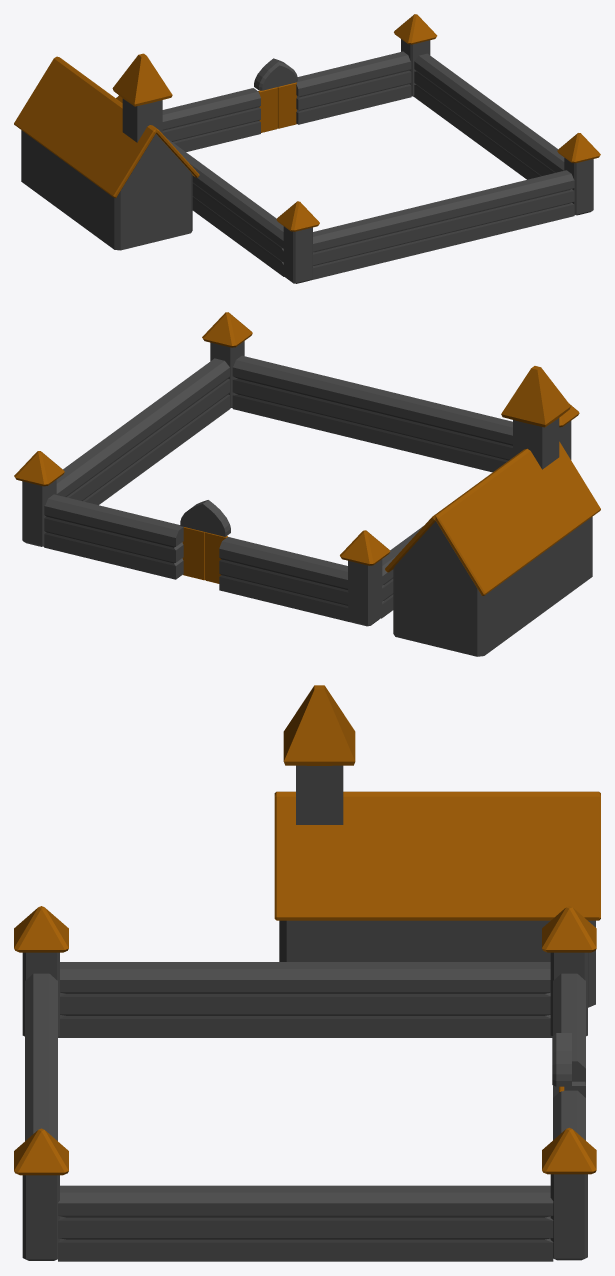
File: obzidje.fbx
3 views of the same model, one above another, from view 1: azimuth 30°, elevation 25°; view 2: azimuth 150°, elevation 25°; view 3: azimuth 270°, elevation 25° (orthographic). The views are drawn at different scales.
Visible parts, largest first — view 1: church, wall, wall2, wall4, wall1, wall3, tower1, tower4, tower3, door_top, right_door, left_door; view 2: church, wall, wall2, wall4, wall3, tower2, tower3, tower4, door_top, right_door, wall1, left_door (+1 smaller); view 3: church, wall2, wall1, wall, tower4, tower3, tower2, tower1, wall3, wall4, door_top.
Boxes of the visible parts, bbox=[...] form: church: bbox=[14, 53, 199, 250]; wall: bbox=[310, 170, 574, 280]; wall2: bbox=[413, 53, 564, 179]; wall4: bbox=[296, 51, 411, 124]; wall1: bbox=[166, 138, 284, 276]; wall3: bbox=[162, 88, 260, 151]; tower1: bbox=[276, 201, 319, 283]; tower4: bbox=[557, 133, 600, 215]; tower3: bbox=[394, 14, 437, 96]; door_top: bbox=[254, 58, 297, 90]; right_door: bbox=[277, 82, 296, 128]; left_door: bbox=[258, 87, 277, 132]; church: bbox=[385, 366, 600, 656]; wall: bbox=[232, 355, 512, 472]; wall2: bbox=[56, 358, 230, 505]; wall4: bbox=[44, 494, 183, 579]; wall3: bbox=[219, 537, 350, 622]; tower2: bbox=[340, 530, 390, 626]; tower3: bbox=[14, 451, 64, 546]; tower4: bbox=[202, 312, 252, 407]; door_top: bbox=[180, 500, 230, 536]; right_door: bbox=[182, 527, 204, 580]; wall1: bbox=[381, 526, 423, 618]; left_door: bbox=[205, 532, 227, 583]; church: bbox=[274, 685, 600, 1007]; wall2: bbox=[58, 1185, 553, 1261]; wall1: bbox=[58, 962, 552, 1037]; wall: bbox=[25, 973, 57, 1140]; tower4: bbox=[14, 1128, 68, 1260]; tower3: bbox=[542, 1127, 596, 1260]; tower2: bbox=[542, 906, 596, 1036]; tower1: bbox=[14, 906, 68, 1036]; wall3: bbox=[553, 973, 585, 1097]; wall4: bbox=[553, 1090, 585, 1140]; door_top: bbox=[552, 1033, 571, 1086].
Size of the model in its own units: 51.9 by 21.77 by 39.81.
